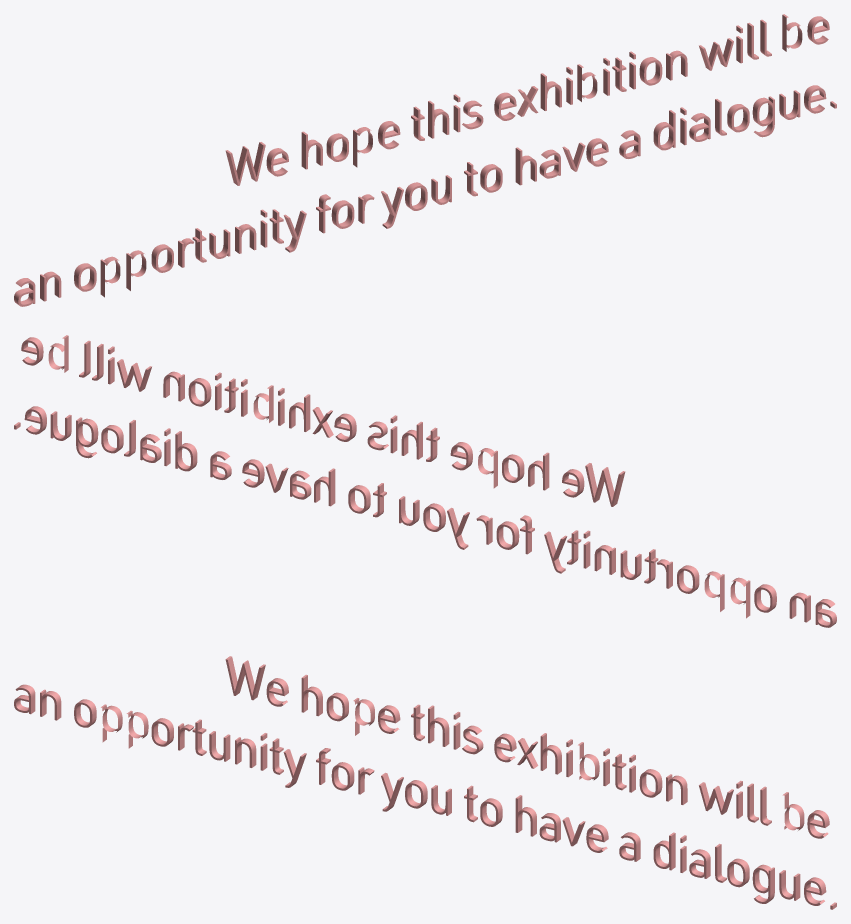
3 views of the same model, one above another, from view 1: azimuth 30°, elevation 25°; view 2: azimuth 150°, elevation 25°; view 3: azimuth 330°, elevation 25° (orthographic).
Visible parts, largest first — view 1: Path; view 2: Path; view 3: Path.
Boxes of the visible parts, x1,y1,x2,y2 form: Path: (225, 142, 265, 185); Path: (585, 463, 625, 506); Path: (226, 656, 265, 699).
Bounding box in the file's own units: 2.14 × 0.2837 × 0.02.
